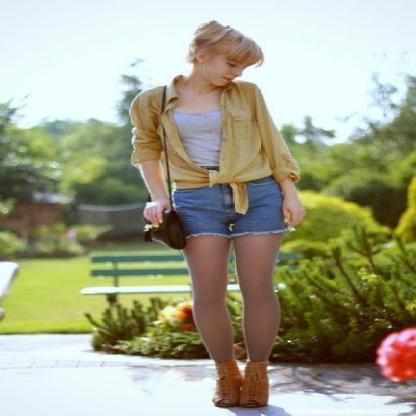bag: (157, 175, 198, 249)
shirt: (120, 82, 300, 213), (173, 110, 221, 166)
shoe: (215, 354, 281, 407)
shorts: (174, 175, 283, 238)
